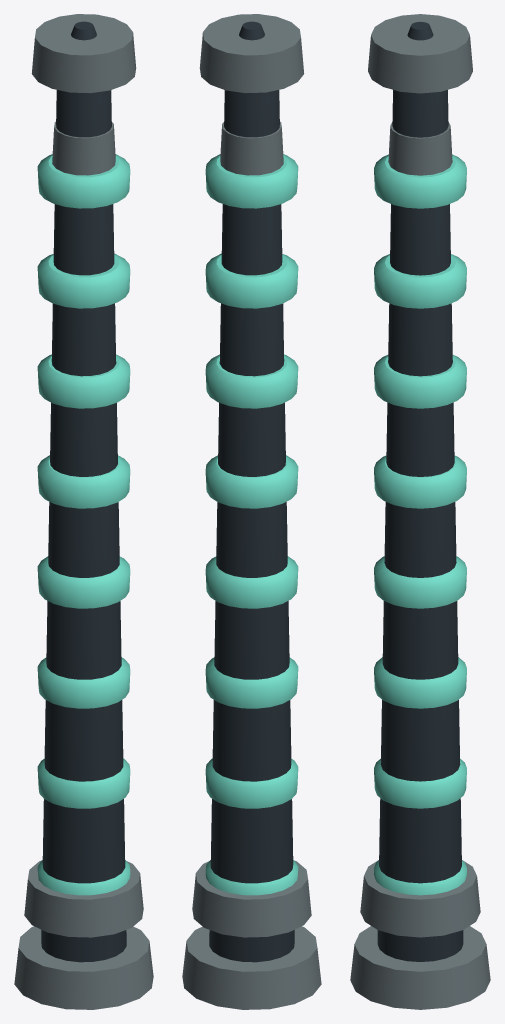
Rendered from gate_projector.glb.
3 renders of one model, left to right at view 1: azimuth 30°, elevation 25°; view 2: azimuth 150°, elevation 25°; view 3: azimuth 270°, elevation 25°, orthographic.
Parts seen in each view (by area): view 1: gate_projector; view 2: gate_projector; view 3: gate_projector.
Boxes of the visible parts, box(x1,y1,x2,y2) form: gate_projector: box(14, 14, 153, 1009); gate_projector: box(182, 14, 321, 1009); gate_projector: box(350, 14, 490, 1009).
Size of the model in its own units: 2.8 by 21 by 2.8.
